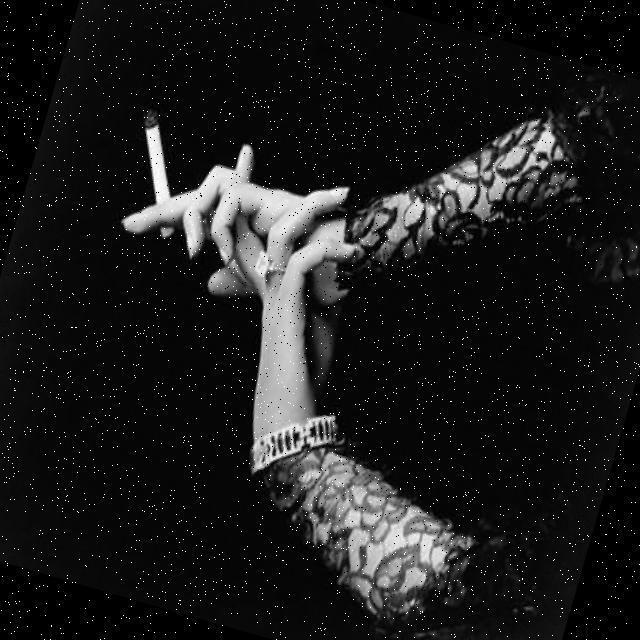cigarette: (117, 110, 191, 205)
